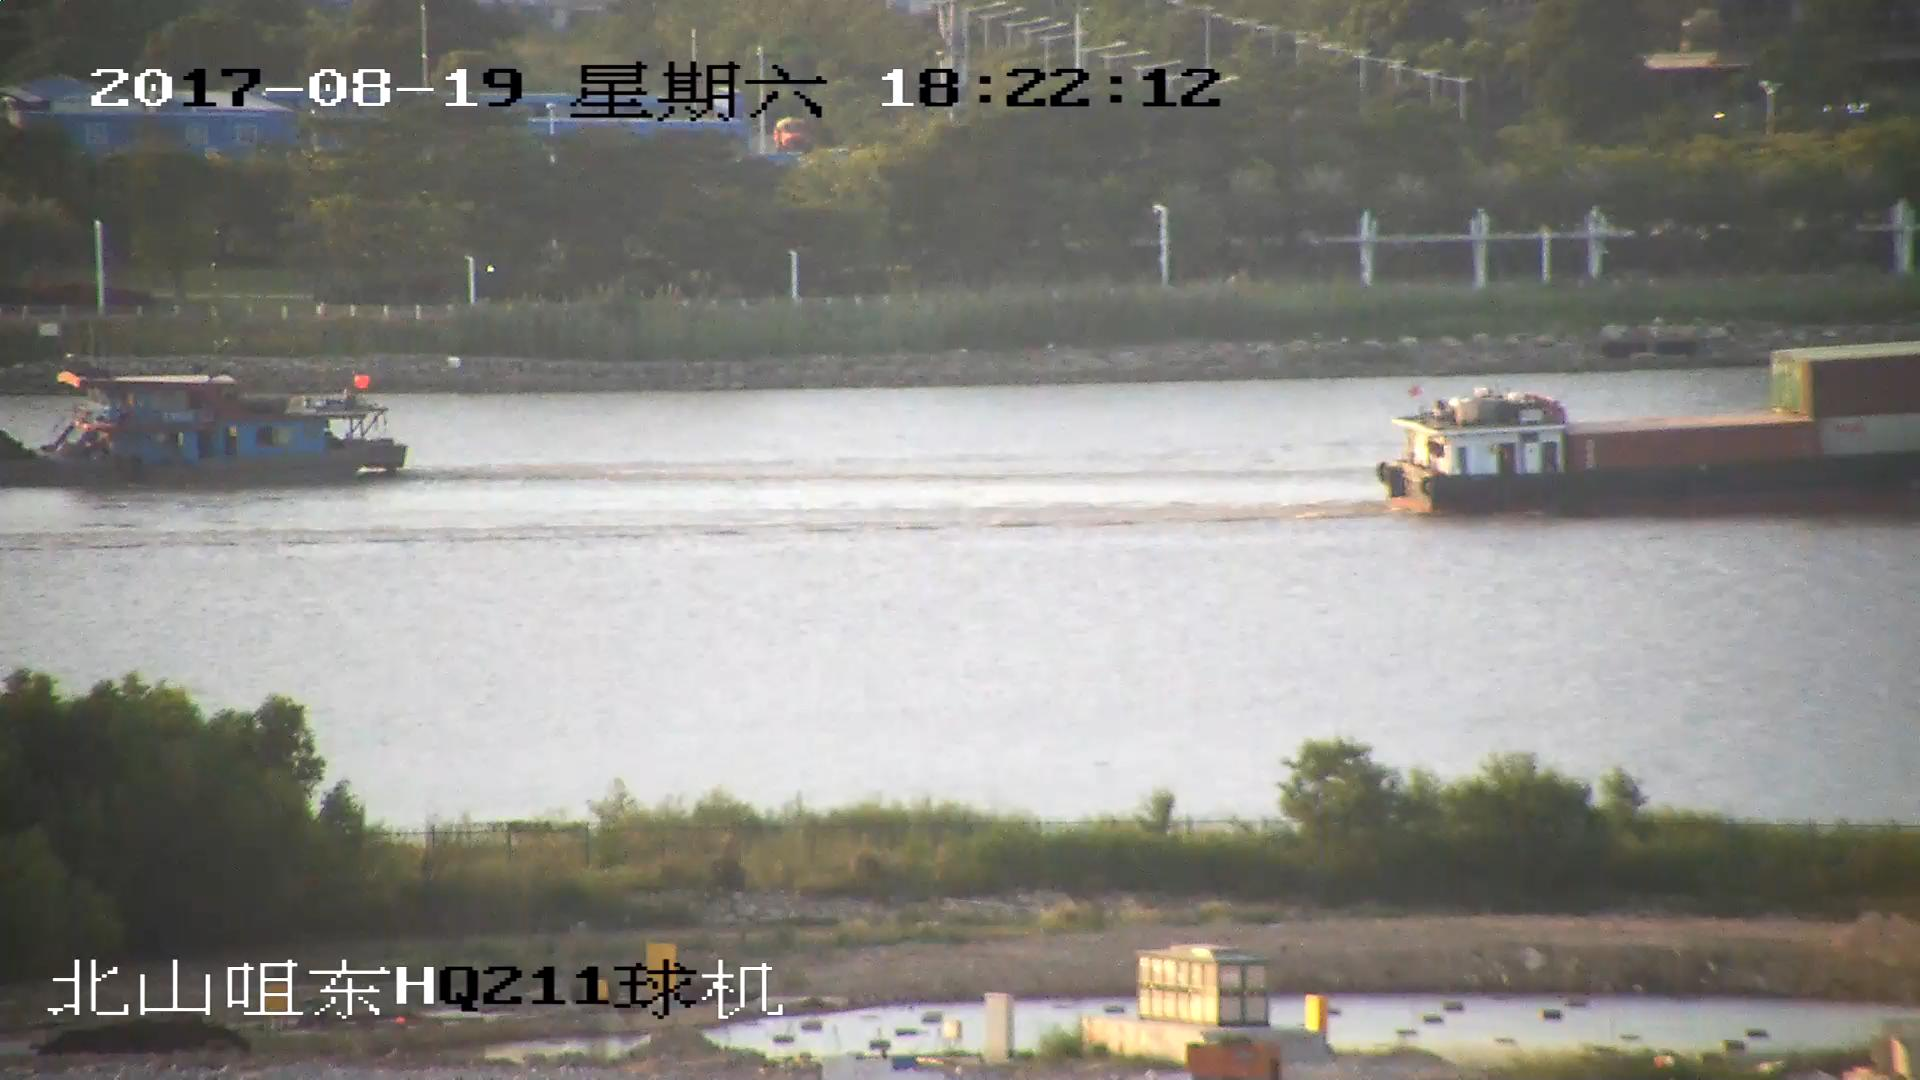container ship: (1384, 340, 1920, 520)
ore carrier: (1, 364, 407, 489)
